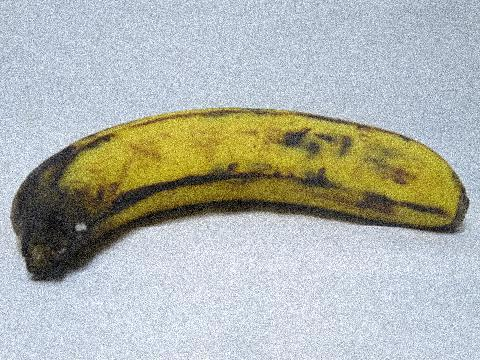overripe: (10, 87, 479, 293)
rotten: (0, 145, 163, 288)
